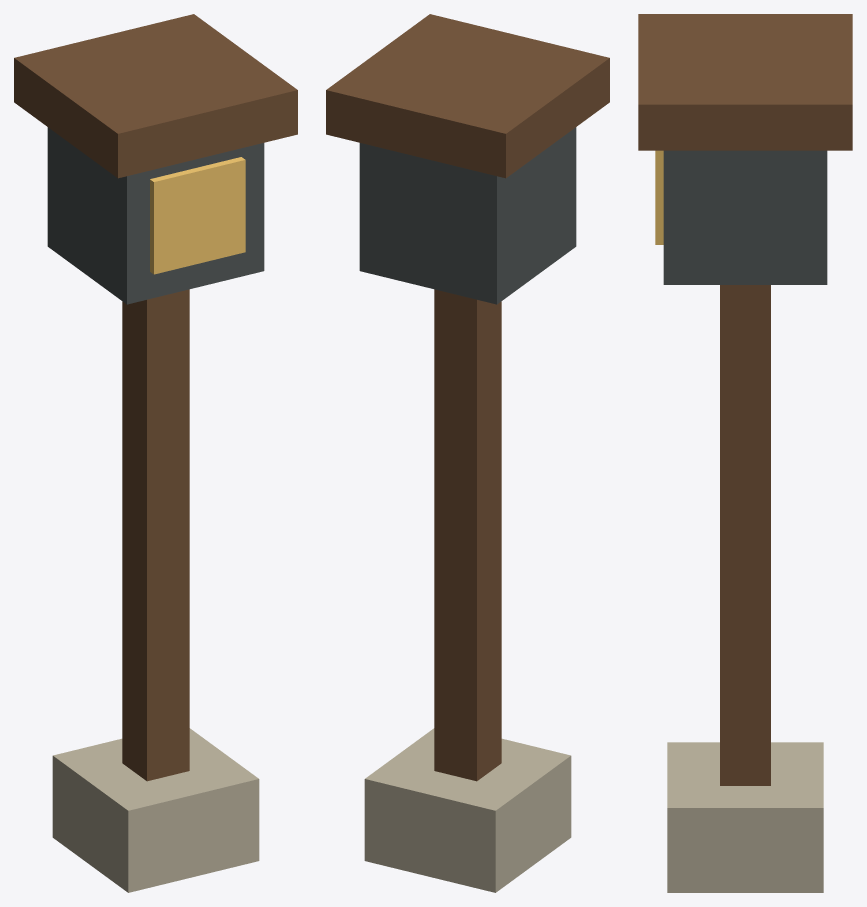
File: lantern_post.glb
3 renders of one model, left to right at view 1: azimuth 30°, elevation 25°; view 2: azimuth 150°, elevation 25°; view 3: azimuth 270°, elevation 25°, orthographic. The views are drawn at different scales.
Visible parts, largest first — view 1: Lantern post, Lantern roof, Lantern stone base, Lantern head, Amber lantern pane; view 2: Lantern post, Lantern roof, Lantern head, Lantern stone base; view 3: Lantern roof, Lantern post, Lantern head, Lantern stone base, Amber lantern pane.
Boxes of the visible parts, bbox=[...] form: Lantern post: bbox=[122, 289, 189, 781]; Lantern roof: bbox=[14, 14, 297, 178]; Lantern stone base: bbox=[52, 728, 259, 892]; Lantern head: bbox=[47, 127, 264, 304]; Amber lantern pane: bbox=[150, 157, 245, 274]; Lantern post: bbox=[434, 289, 501, 781]; Lantern roof: bbox=[326, 14, 609, 178]; Lantern head: bbox=[359, 127, 576, 304]; Lantern stone base: bbox=[364, 728, 571, 892]; Lantern roof: bbox=[638, 14, 852, 150]; Lantern post: bbox=[720, 285, 770, 785]; Lantern head: bbox=[663, 150, 827, 284]; Lantern stone base: bbox=[667, 742, 823, 892]; Amber lantern pane: bbox=[655, 150, 663, 244].
Bounding box in the file's own units: 0.55 × 2.27 × 0.55.
